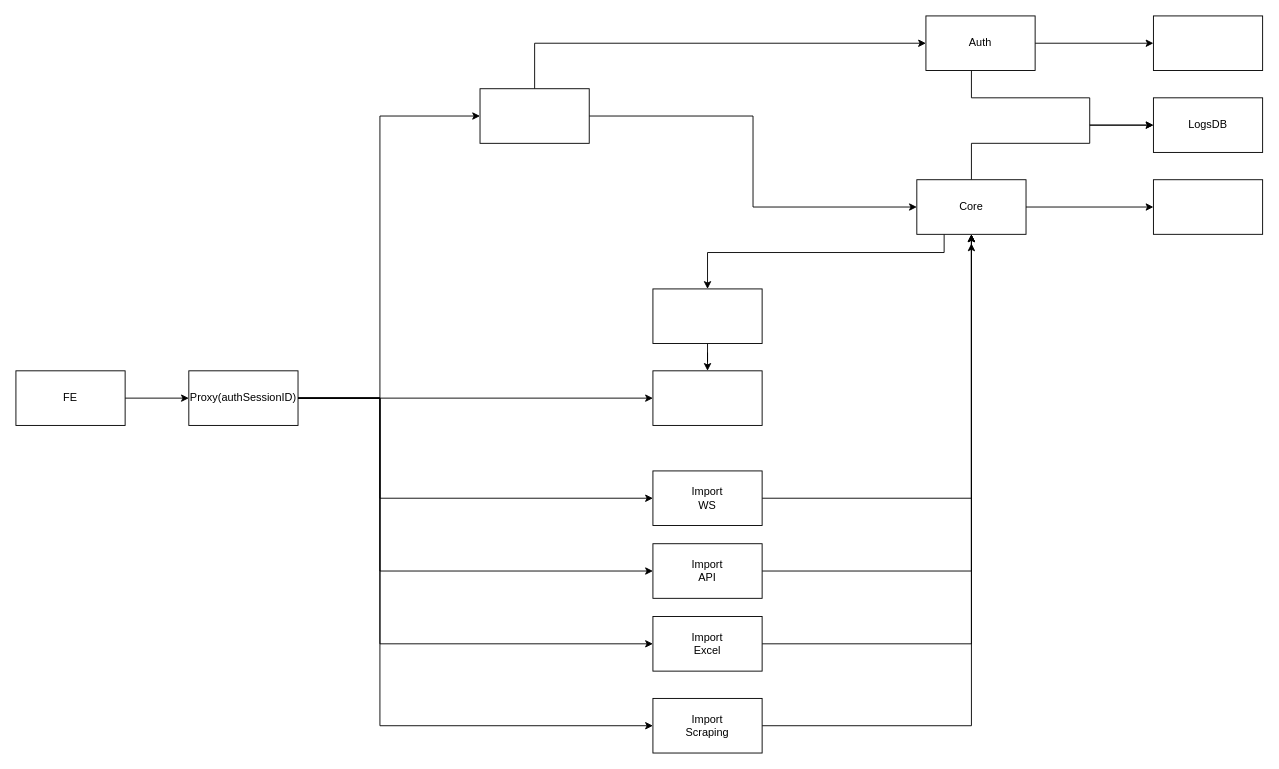
Image size: 1279x769. Some labels were removed from this diagram. The centre of each missing label's shape, as x and y in pixels:
"Api" goes at point (534, 115).
"AppDB" goes at point (1208, 43).
"DataDB" goes at point (1208, 206).
"WS/Client" goes at point (707, 397).
"WS/Manager" goes at point (707, 316).
